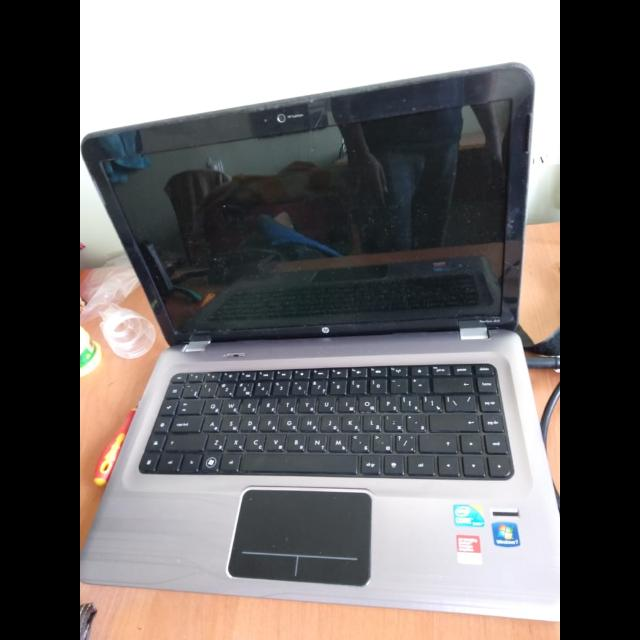Laptop: (80, 54, 560, 626)
